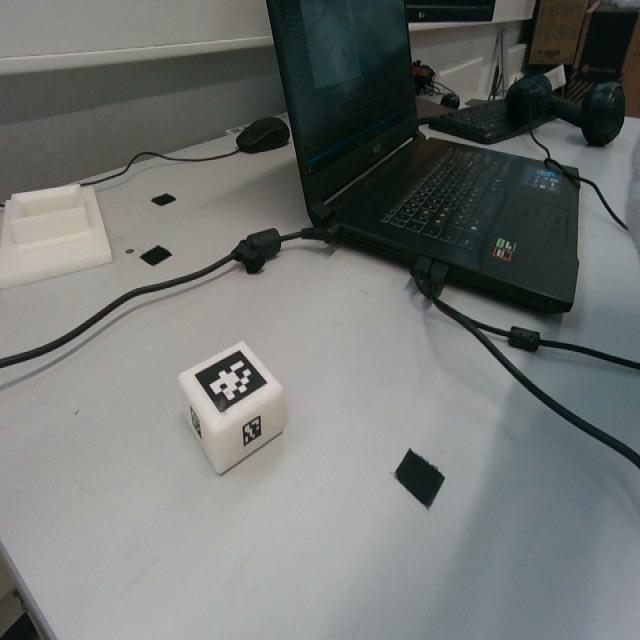Cube: (178, 338, 285, 474)
